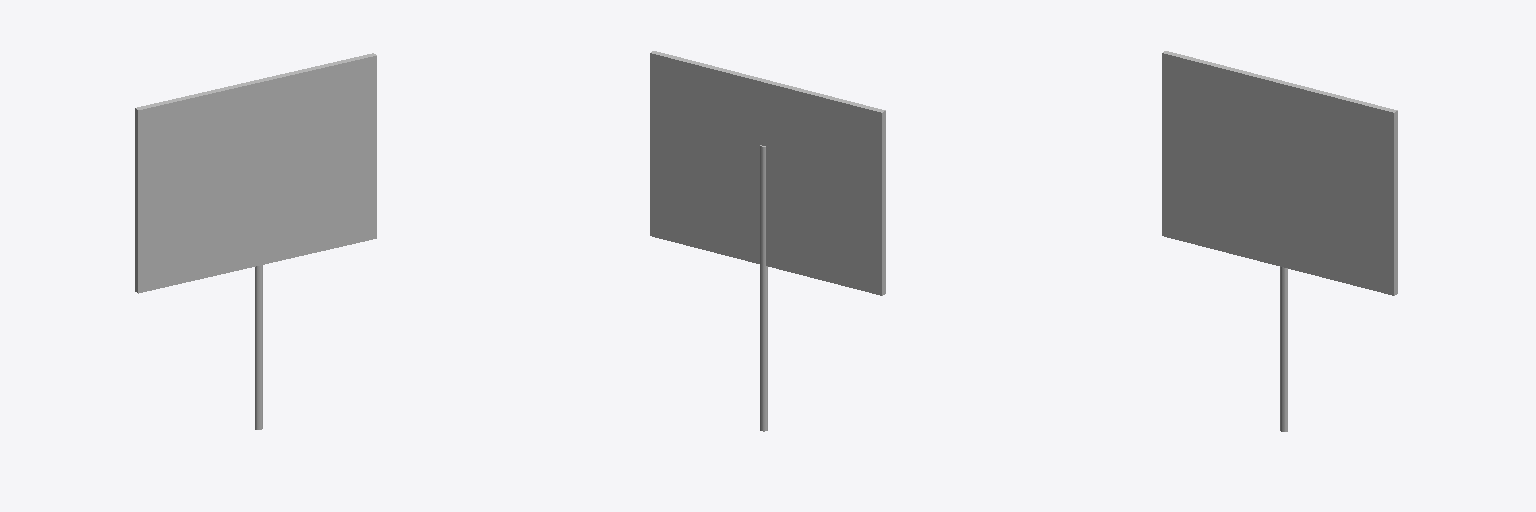
Rendered from board_20.obj.
The picture shows the model from 3 angles: view 1: azimuth 30°, elevation 25°; view 2: azimuth 150°, elevation 25°; view 3: azimuth 330°, elevation 25°; orthographic projection.
Parts seen in each view (by area): view 1: Cube.025_Cube.026, Cylinder.025; view 2: Cube.025_Cube.026, Cylinder.025; view 3: Cube.025_Cube.026, Cylinder.025.
Boxes of the visible parts, x1,y1,x2,y2 form: Cube.025_Cube.026: [135, 53, 376, 293]; Cylinder.025: [255, 265, 262, 429]; Cube.025_Cube.026: [650, 51, 885, 295]; Cylinder.025: [760, 145, 767, 431]; Cube.025_Cube.026: [1162, 51, 1397, 295]; Cylinder.025: [1280, 267, 1287, 431].
Bounding box in the file's own units: 0.1579 × 0.2231 × 0.0078.